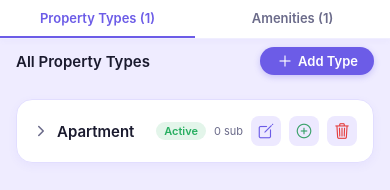
Test: PropertyConfigScreen — Type delete, Amenity edit/delete (net-new) › renders Edit and Delete actions on an amenity row
Expected: the text "Apartment" is shown, [57,122,134,140]
Click the text "Amenities (1)" at (292, 18), box [252,10,333,26]
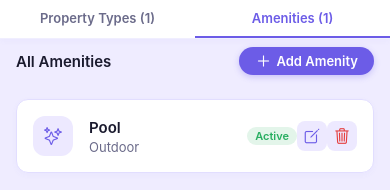
Expected: the text "Pool" is shown, [89,118,121,136]
Expected: the button named "Edit Pool" is shown, [297,121,327,151]
Expected: the button named "Delete Pool" is shown, [327,121,357,151]
